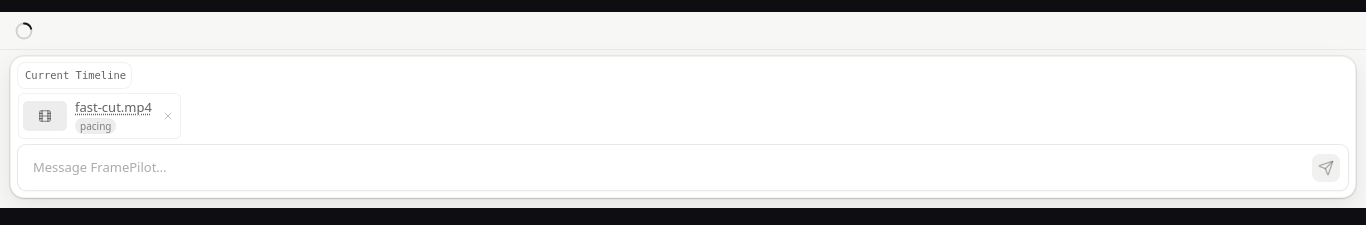
Test: reference tiles (P3.6) › shows what the AI read from the reference, not just that it was attached
The image size is (1366, 225).
Expected: the text "Pacing: fast — median shot 1.1s" is not shown
Click the button with aria-label "What FramePilot learned from": x=113, y=107 [75,98,152,117]
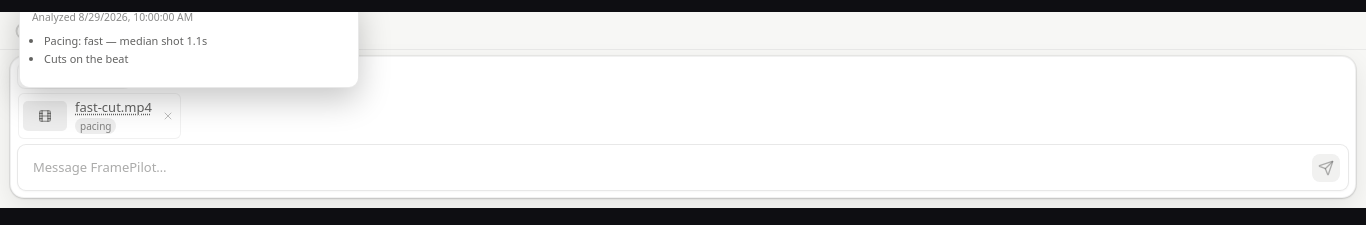
Expected: the list item "Pacing: fast — median shot 1.1s" is shown, [44,33,207,48]
Expected: the list item "Cuts on the beat" is shown, [44,51,128,66]
